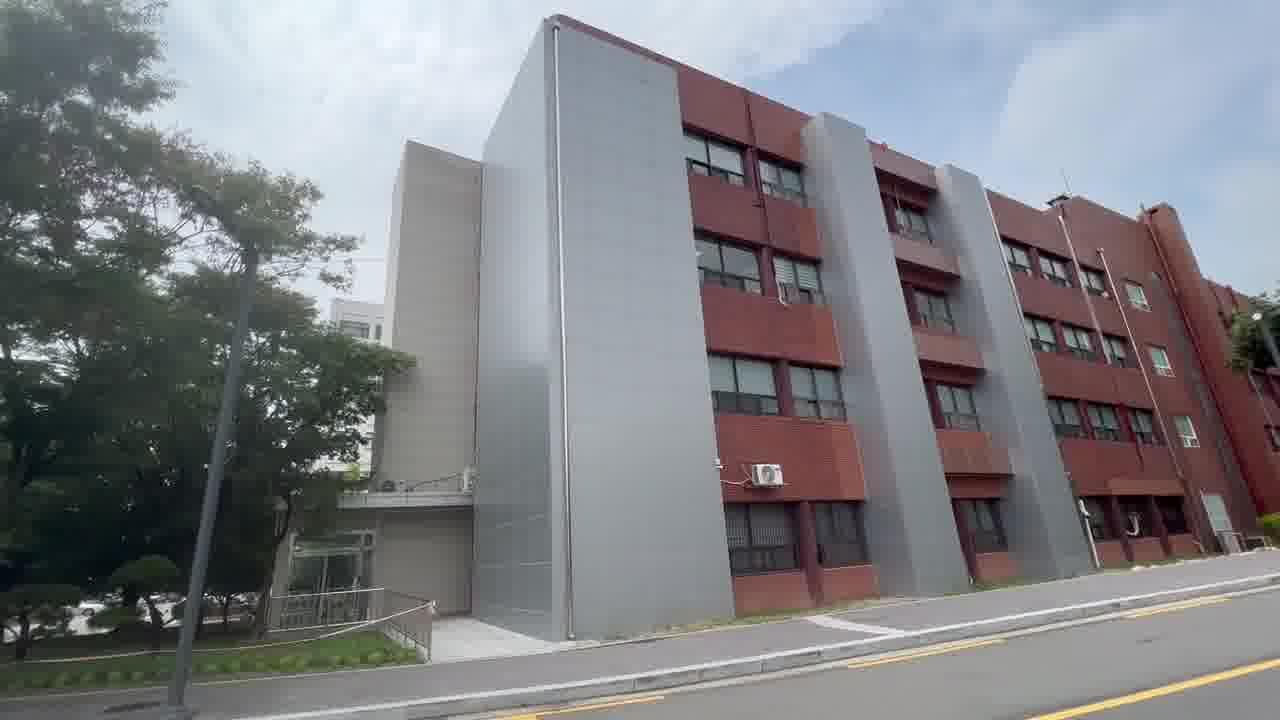building: (394, 16, 1252, 583)
